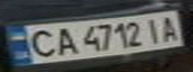1: (112, 20, 130, 50)
2: (124, 18, 148, 47)
4: (78, 23, 100, 53)
7: (96, 20, 115, 51)
A: (48, 25, 81, 56), (154, 12, 184, 43)
C: (21, 27, 60, 60)
I: (142, 16, 169, 44)
